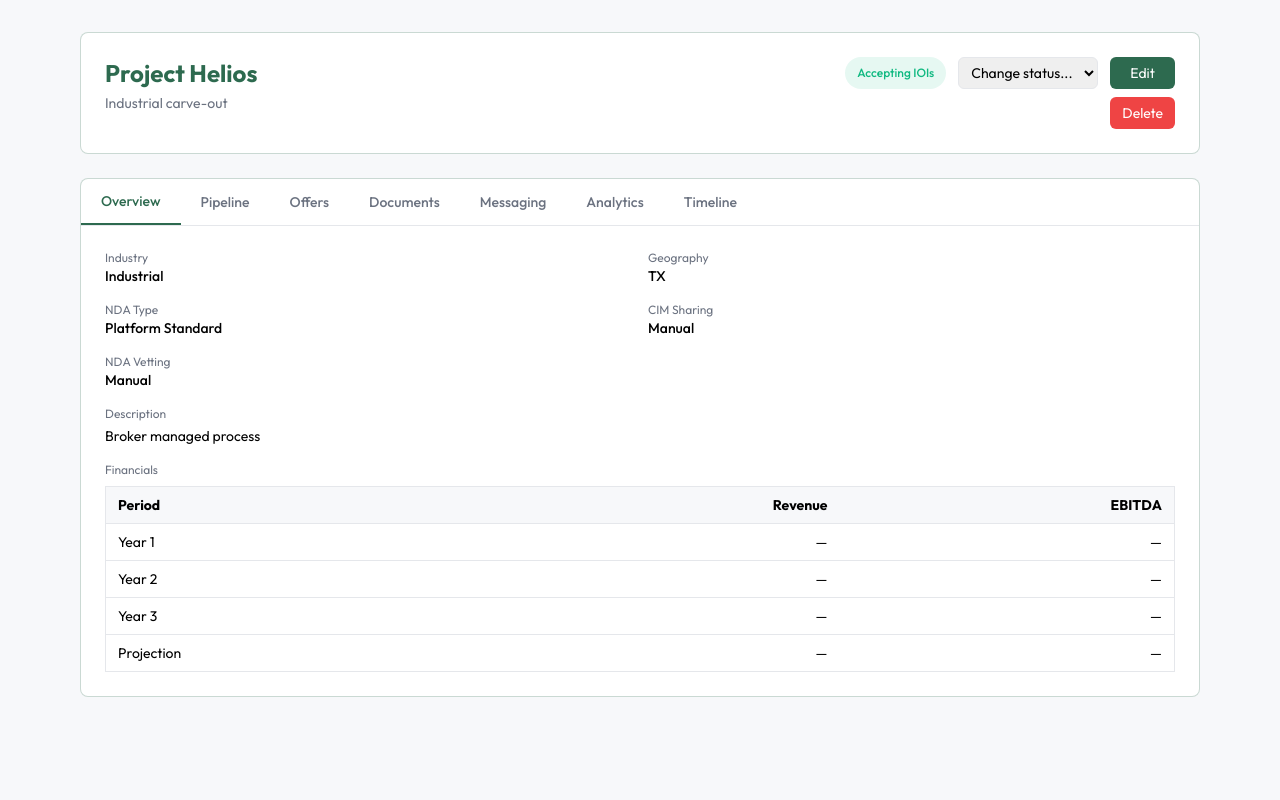
Test case: BrokerDealManagement pipeline manual actions › renders an Actions column and row placeholder when no actions are available
Expected: the heading "Project Helios" is shown, [105,57,257,89]
Click the button "Pipeline": (225, 202) [180,179,270,225]
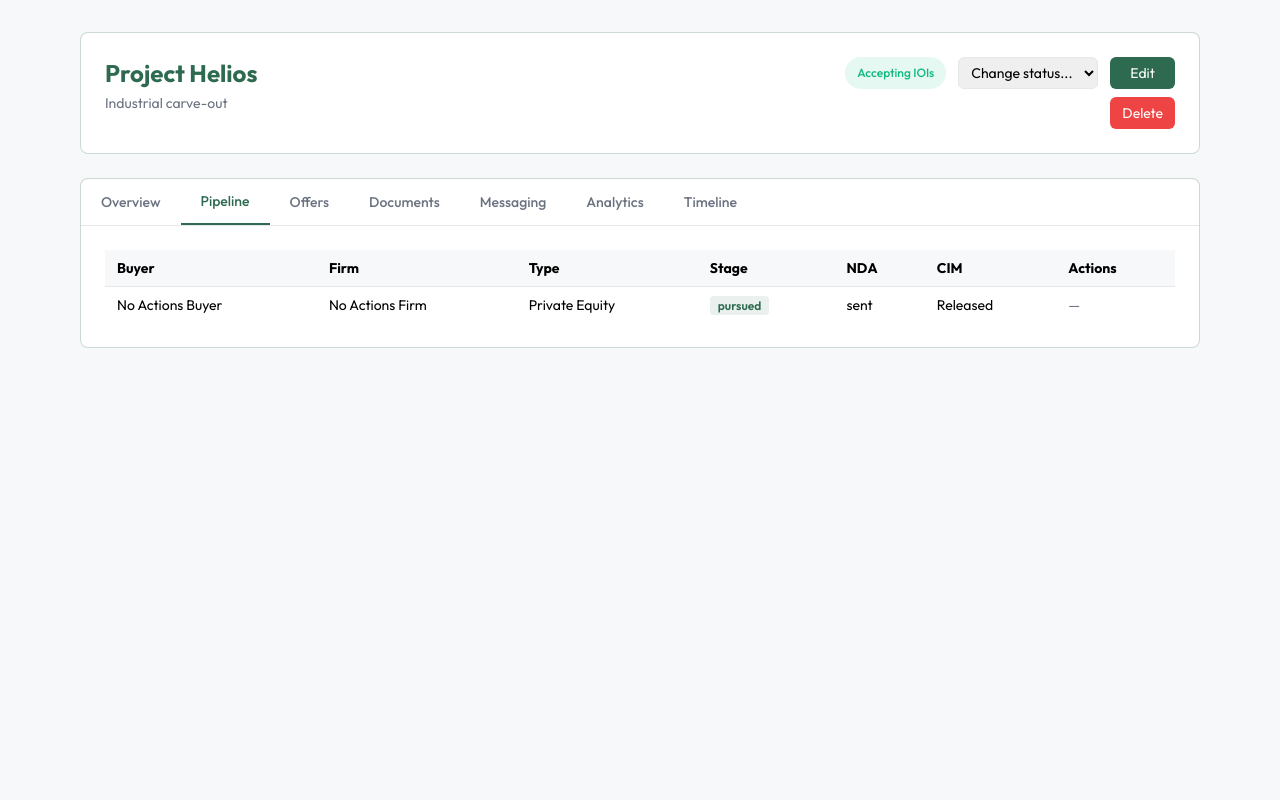
Expected: the text "—" is shown, [1068,296,1080,314]
Now the column heading "Actions" is shown, box [1056,250,1175,286]
Now the text "No Actions Buyer" is shown, box [117,296,222,314]
